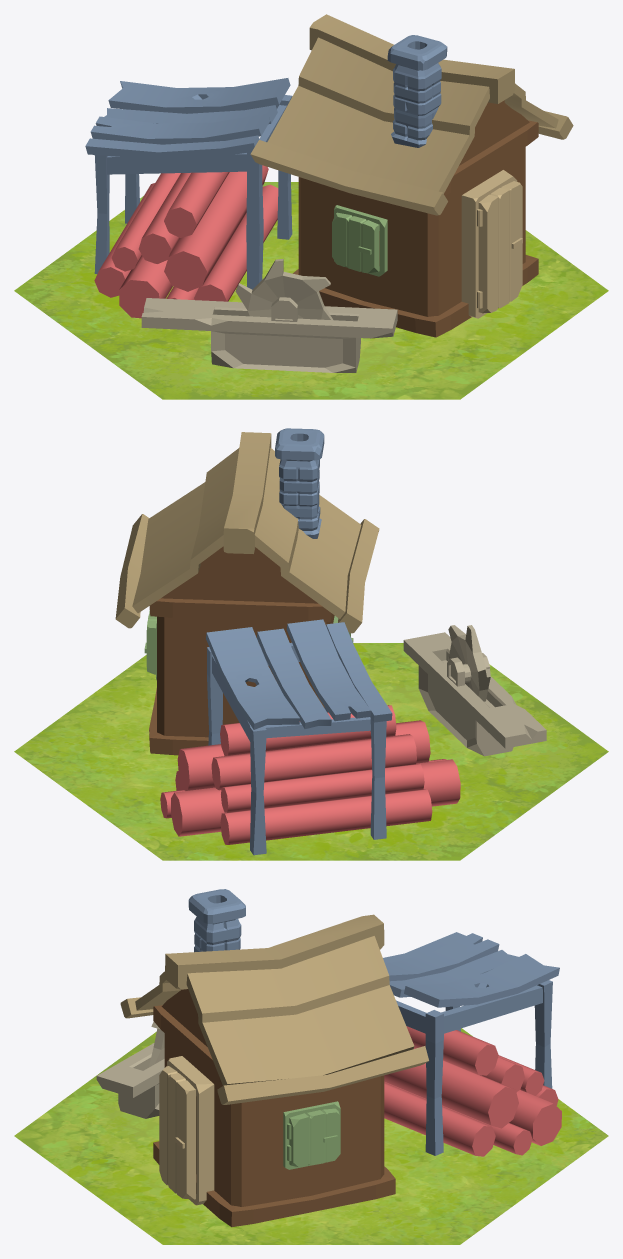
File: Hex_flat_Sawmill.fbx
The picture shows the model from 3 angles, top to bottom: view 1: azimuth 30°, elevation 25°; view 2: azimuth 150°, elevation 25°; view 3: azimuth 270°, elevation 25°; orthographic projection.
Visible parts, largest first — view 1: Hex_flat_Sawmill; view 2: Hex_flat_Sawmill; view 3: Hex_flat_Sawmill.
Part boxes in pixels (left/top/right/bottom): Hex_flat_Sawmill: left=14, top=14, right=608, bottom=399; Hex_flat_Sawmill: left=14, top=428, right=608, bottom=860; Hex_flat_Sawmill: left=14, top=889, right=608, bottom=1244.
Bounding box in the file's own units: 0.866 × 0.4985 × 1.
